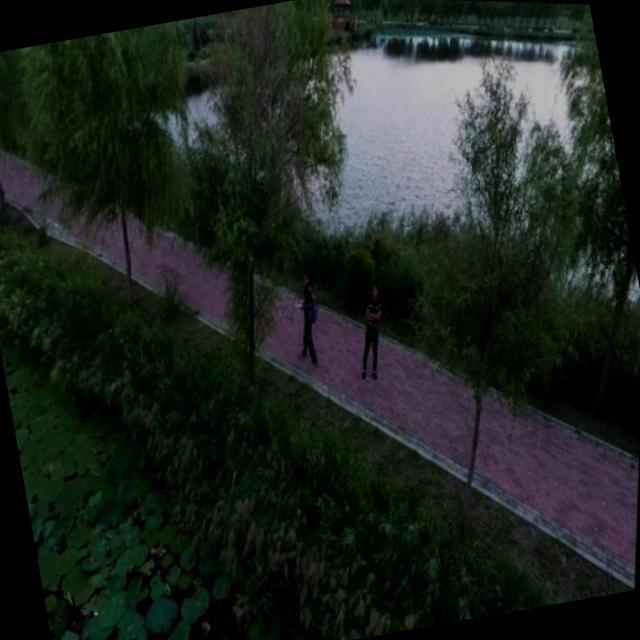person: (276, 262, 341, 375), (343, 276, 400, 383)
